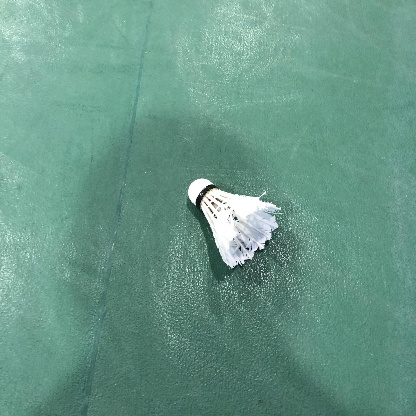ball_single: (188, 179, 281, 268)
